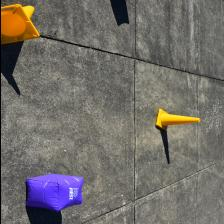cone: (0, 4, 39, 44), (154, 109, 200, 131)
cube: (24, 174, 82, 212)
